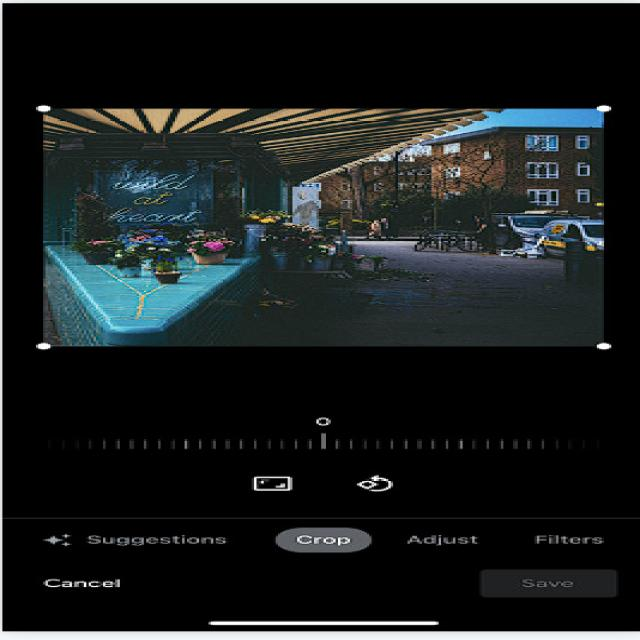button: (462, 564, 628, 602)
image: (37, 99, 612, 352)
text: (28, 571, 150, 598)
